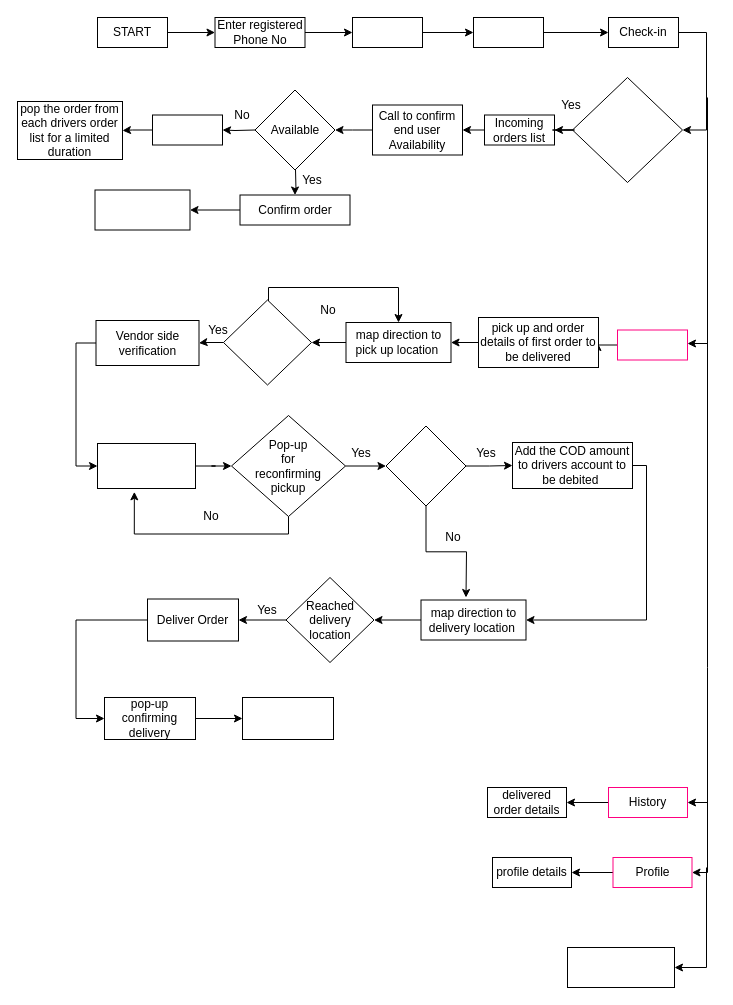
This 733x1005 diagram has some shape labels left out. Each missing label, with the box of its shape:
Add order to "Your orders" list: (94, 189, 190, 230)
Cash on delivery: (385, 425, 466, 506)
confirm Order pick-up: (96, 442, 196, 488)
Delivered: (242, 696, 334, 740)
driver in near distance range and has less orders: (572, 76, 682, 182)
END: (566, 946, 674, 988)
Login Success: (472, 16, 544, 48)
Reached pick-up location: (222, 299, 312, 385)
Reschdule pick-up: (152, 114, 222, 145)
Verify with OTP: (352, 16, 422, 48)
Your Orders: (616, 329, 688, 360)
